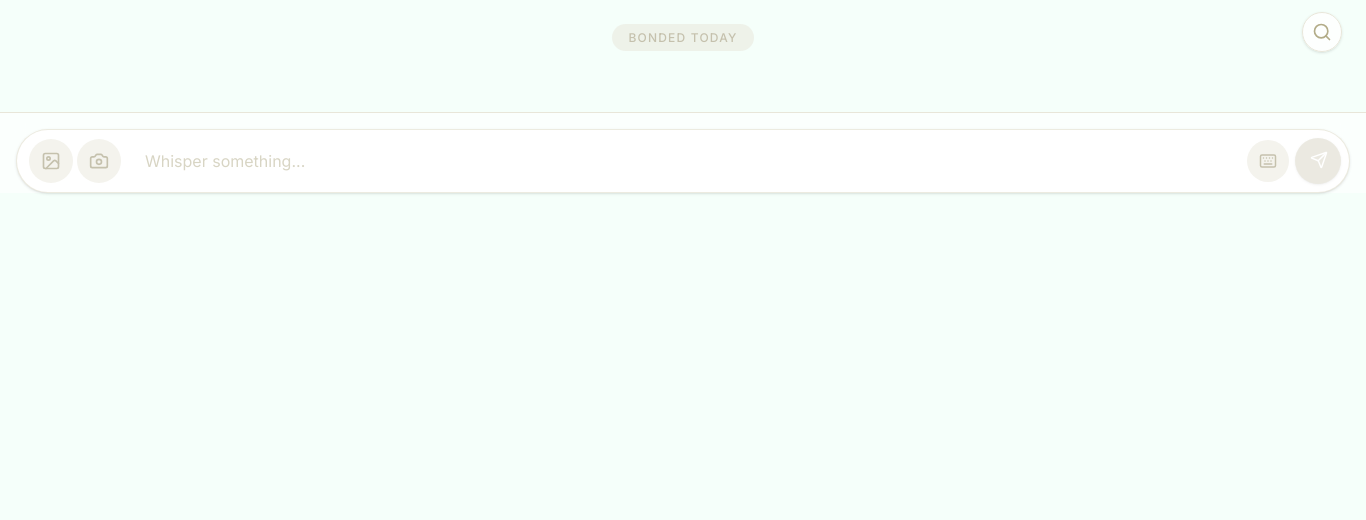
Scenario: ChatScreen › should show virtual keyboard when toggle button is clicked
// Click keyboard toggle
Step 1. Click the button named "Toggle keyboard" → (1268, 161), box [1247,140,1289,182]
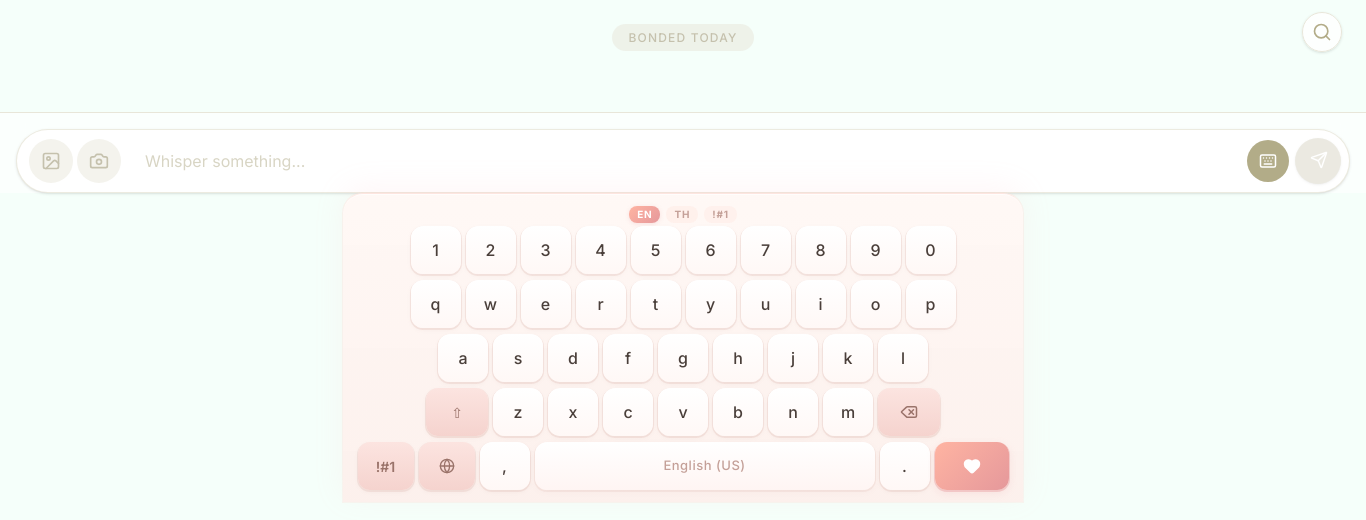
Check: the element with test id "virtual-keyboard" is shown, box [343,193,1023,502]
